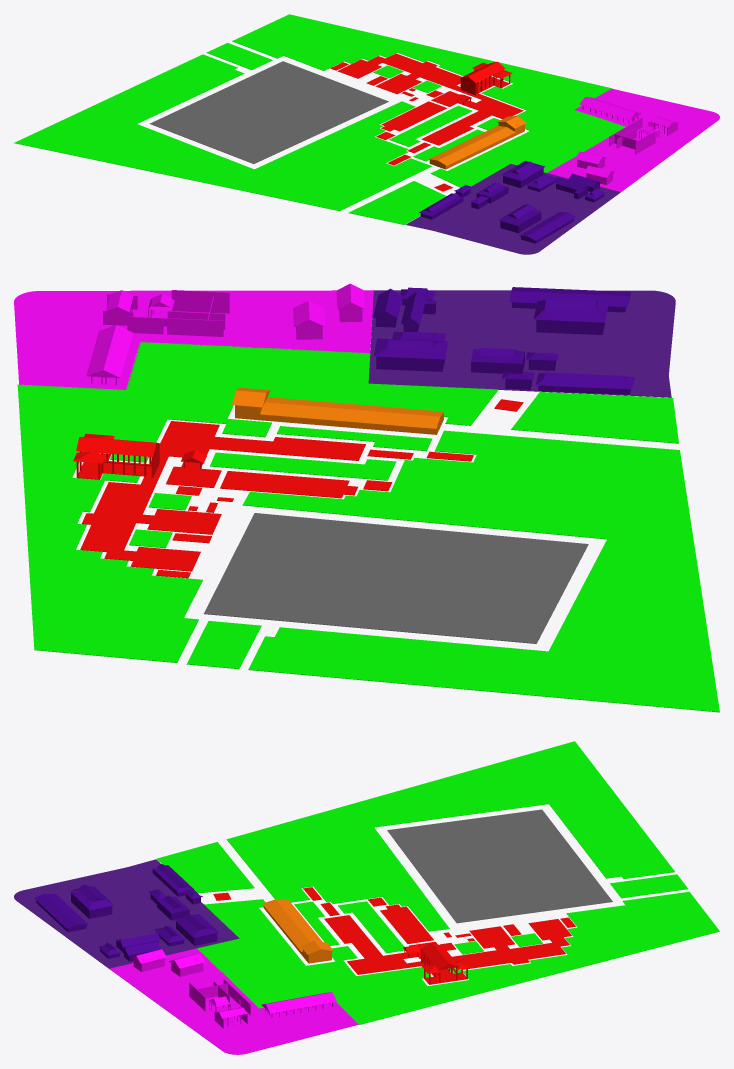
File: 1979-all.obj
3 renders of one model, top to bottom at view 1: azimuth 30°, elevation 25°; view 2: azimuth 150°, elevation 25°; view 3: azimuth 270°, elevation 25°, orthographic. The views are drawn at different scales.
Parts seen in each view (by area): view 1: Obj_000179, Obj_000195, Obj_000180, Obj_000194, Obj_000193, Obj_000191, Obj_000173, Obj_000172, Obj_000177, Obj_000178, Obj_000190, Obj_000080 (+5 smaller); view 2: Obj_000179, Obj_000195, Obj_000180, Obj_000194, Obj_000193, Obj_000191, Obj_000173, Obj_000172, Obj_000177, Obj_000178, Obj_000190, Obj_000112 (+13 smaller); view 3: Obj_000179, Obj_000195, Obj_000180, Obj_000193, Obj_000194, Obj_000191, Obj_000173, Obj_000172, Obj_000177, Obj_000178, Obj_000190, Obj_000080 (+4 smaller).
Boxes of the visible parts, <box> form: Obj_000179: <box>14,54,432,211</box>; Obj_000195: <box>232,14,625,187</box>; Obj_000180: <box>150,61,388,163</box>; Obj_000194: <box>406,164,620,254</box>; Obj_000193: <box>547,88,719,191</box>; Obj_000191: <box>337,53,523,145</box>; Obj_000173: <box>348,181,446,224</box>; Obj_000172: <box>429,125,515,165</box>; Obj_000177: <box>389,105,472,146</box>; Obj_000178: <box>206,42,272,70</box>; Obj_000190: <box>381,101,446,131</box>; Obj_000080: <box>519,212,575,240</box>; Obj_000179: <box>242,430,719,712</box>; Obj_000195: <box>17,341,498,662</box>; Obj_000180: <box>204,513,588,643</box>; Obj_000194: <box>368,290,675,397</box>; Obj_000193: <box>14,290,373,389</box>; Obj_000191: <box>77,421,365,571</box>; Obj_000173: <box>511,392,678,443</box>; Obj_000172: <box>260,397,443,428</box>; Obj_000177: <box>210,452,396,480</box>; Obj_000178: <box>186,621,261,669</box>; Obj_000190: <box>220,471,357,498</box>; Obj_000112: <box>86,325,133,377</box>; Obj_000179: <box>226,741,674,931</box>; Obj_000195: <box>197,891,719,1024</box>; Obj_000180: <box>387,809,612,923</box>; Obj_000193: <box>109,948,358,1054</box>; Obj_000194: <box>14,859,239,968</box>; Obj_000191: <box>324,915,571,984</box>; Obj_000173: <box>157,842,254,893</box>; Obj_000172: <box>262,899,322,951</box>; Obj_000177: <box>338,901,404,953</box>; Obj_000178: <box>610,874,687,898</box>; Obj_000190: <box>380,904,433,943</box>; Obj_000080: <box>34,893,88,928</box>.
Size of the model in its own units: 422 by 12 by 402.
